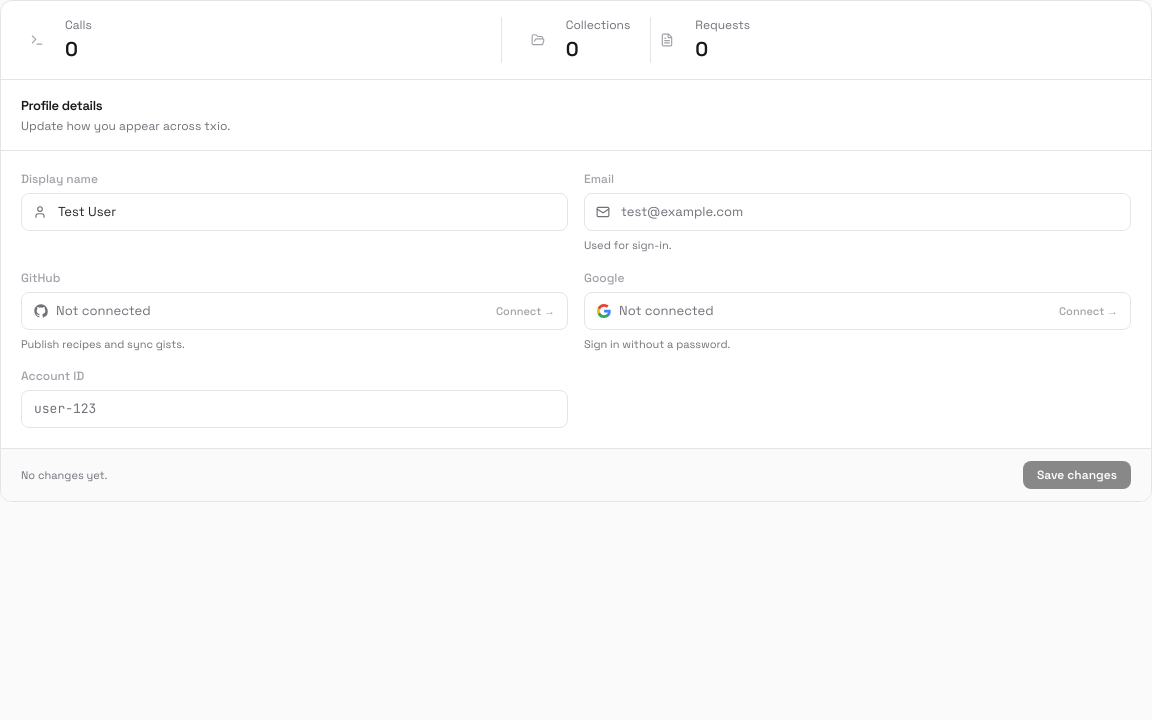
Test: GeneralTab › Profile form › should show save button when changes are made
Replace the text in the field showing "Test User" with "New Name": (294, 212) [21, 193, 568, 231]
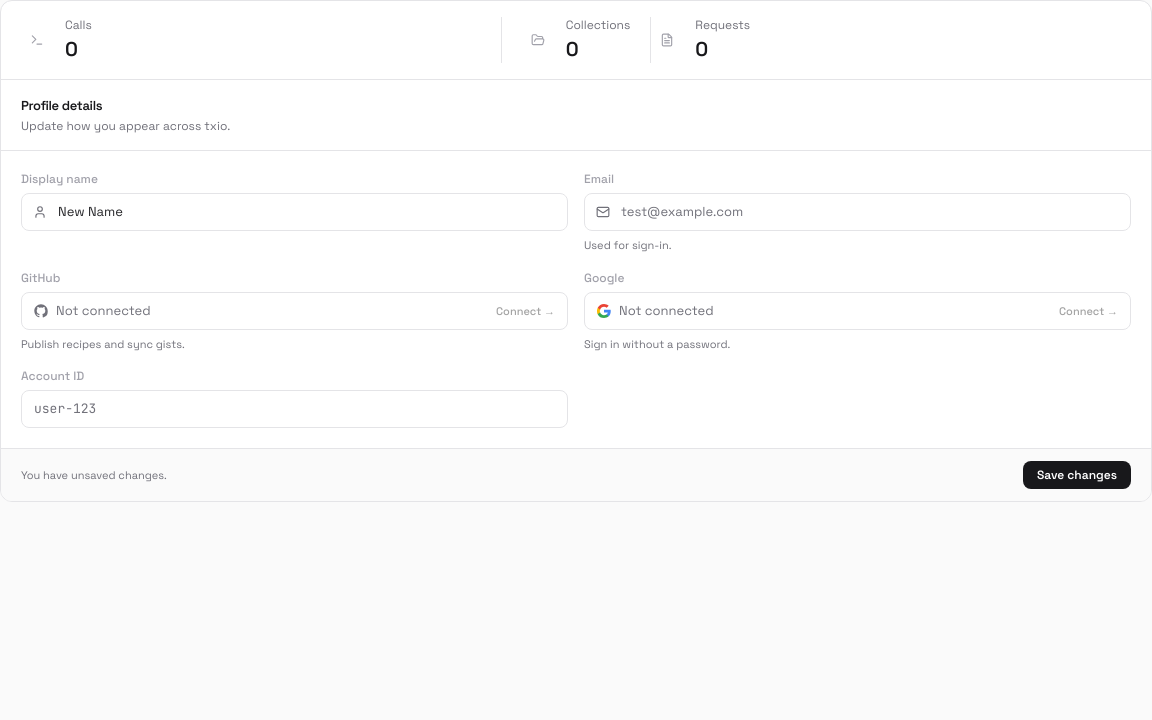
Expected: the button "Save changes" is enabled, [1023, 461, 1131, 489]
